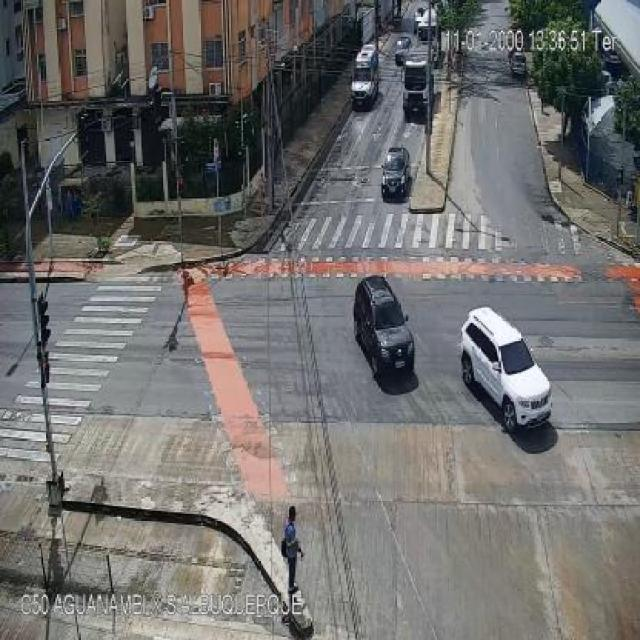Car: (461, 308, 554, 431), (352, 276, 413, 378), (380, 147, 411, 198), (508, 50, 528, 78)
Truck: (401, 44, 436, 116)
Van: (352, 44, 380, 109)
